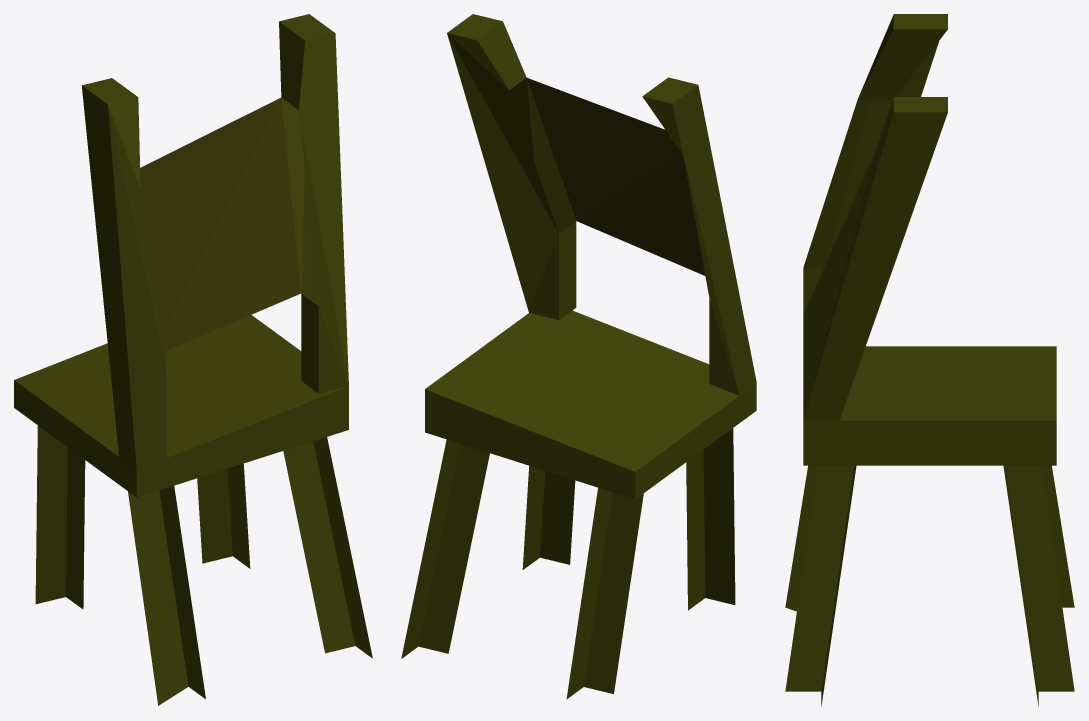
The model's file is obj_chair_12_0.obj.
The picture shows the model from 3 angles, left to right: view 1: azimuth 30°, elevation 25°; view 2: azimuth 150°, elevation 25°; view 3: azimuth 270°, elevation 25°; orthographic projection. The views are drawn at different scales.
Bounding box in the file's own units: 0.5 × 1.17 × 0.5.
